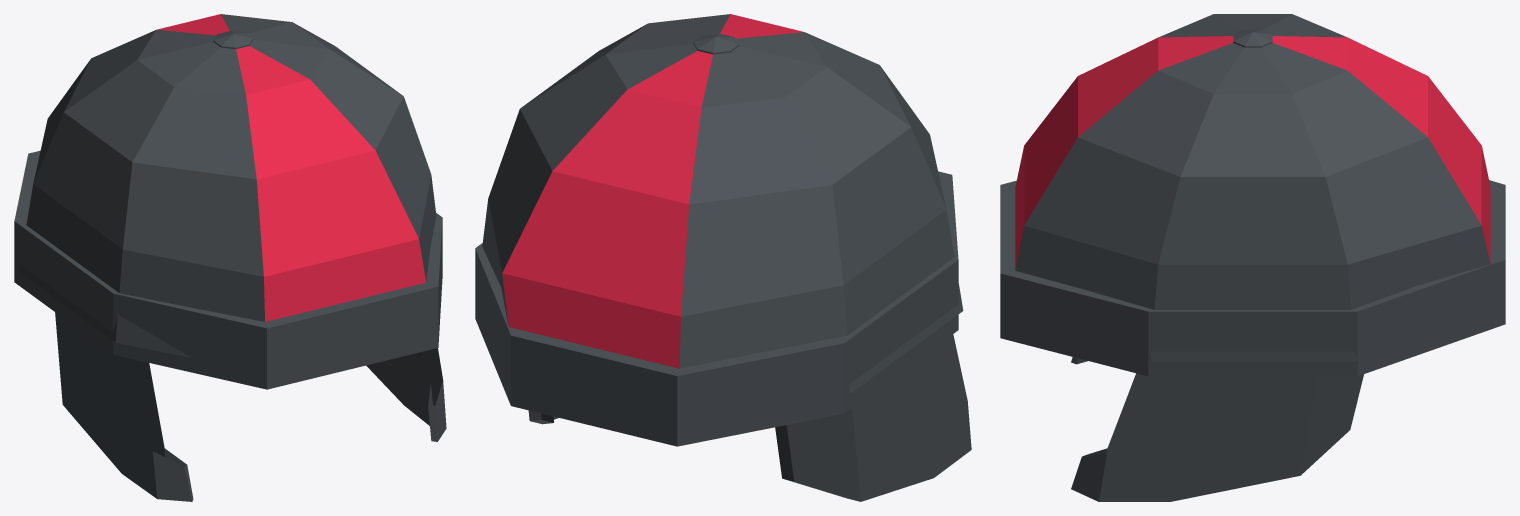
The model's file is helmet_1_6_red.glb.
The picture shows the model from 3 angles, left to right: view 1: azimuth 30°, elevation 25°; view 2: azimuth 150°, elevation 25°; view 3: azimuth 270°, elevation 25°; orthographic projection. The views are drawn at different scales.
Visible parts, largest first — view 1: Sphere, Cylinder2.001, Cube, Cylinder; view 2: Sphere, Cylinder2.001, Cube, Cylinder; view 3: Sphere, Cylinder2.001, Cube, Cylinder.
Boxes of the visible parts, box(x1,y1,x2,y2) form: Sphere: box(18, 14, 436, 357); Cylinder2.001: box(14, 150, 442, 389); Cube: box(55, 312, 446, 501); Cylinder: box(213, 31, 253, 49); Sphere: box(482, 14, 963, 392); Cylinder2.001: box(475, 171, 958, 446); Cube: box(528, 334, 971, 501); Cylinder: box(693, 33, 739, 54); Sphere: box(1015, 14, 1490, 361); Cylinder2.001: box(1000, 180, 1505, 376); Cube: box(1071, 357, 1363, 501); Cylinder: box(1233, 29, 1272, 47).
Size of the model in its own units: 0.2214 by 0.2432 by 0.2804.
